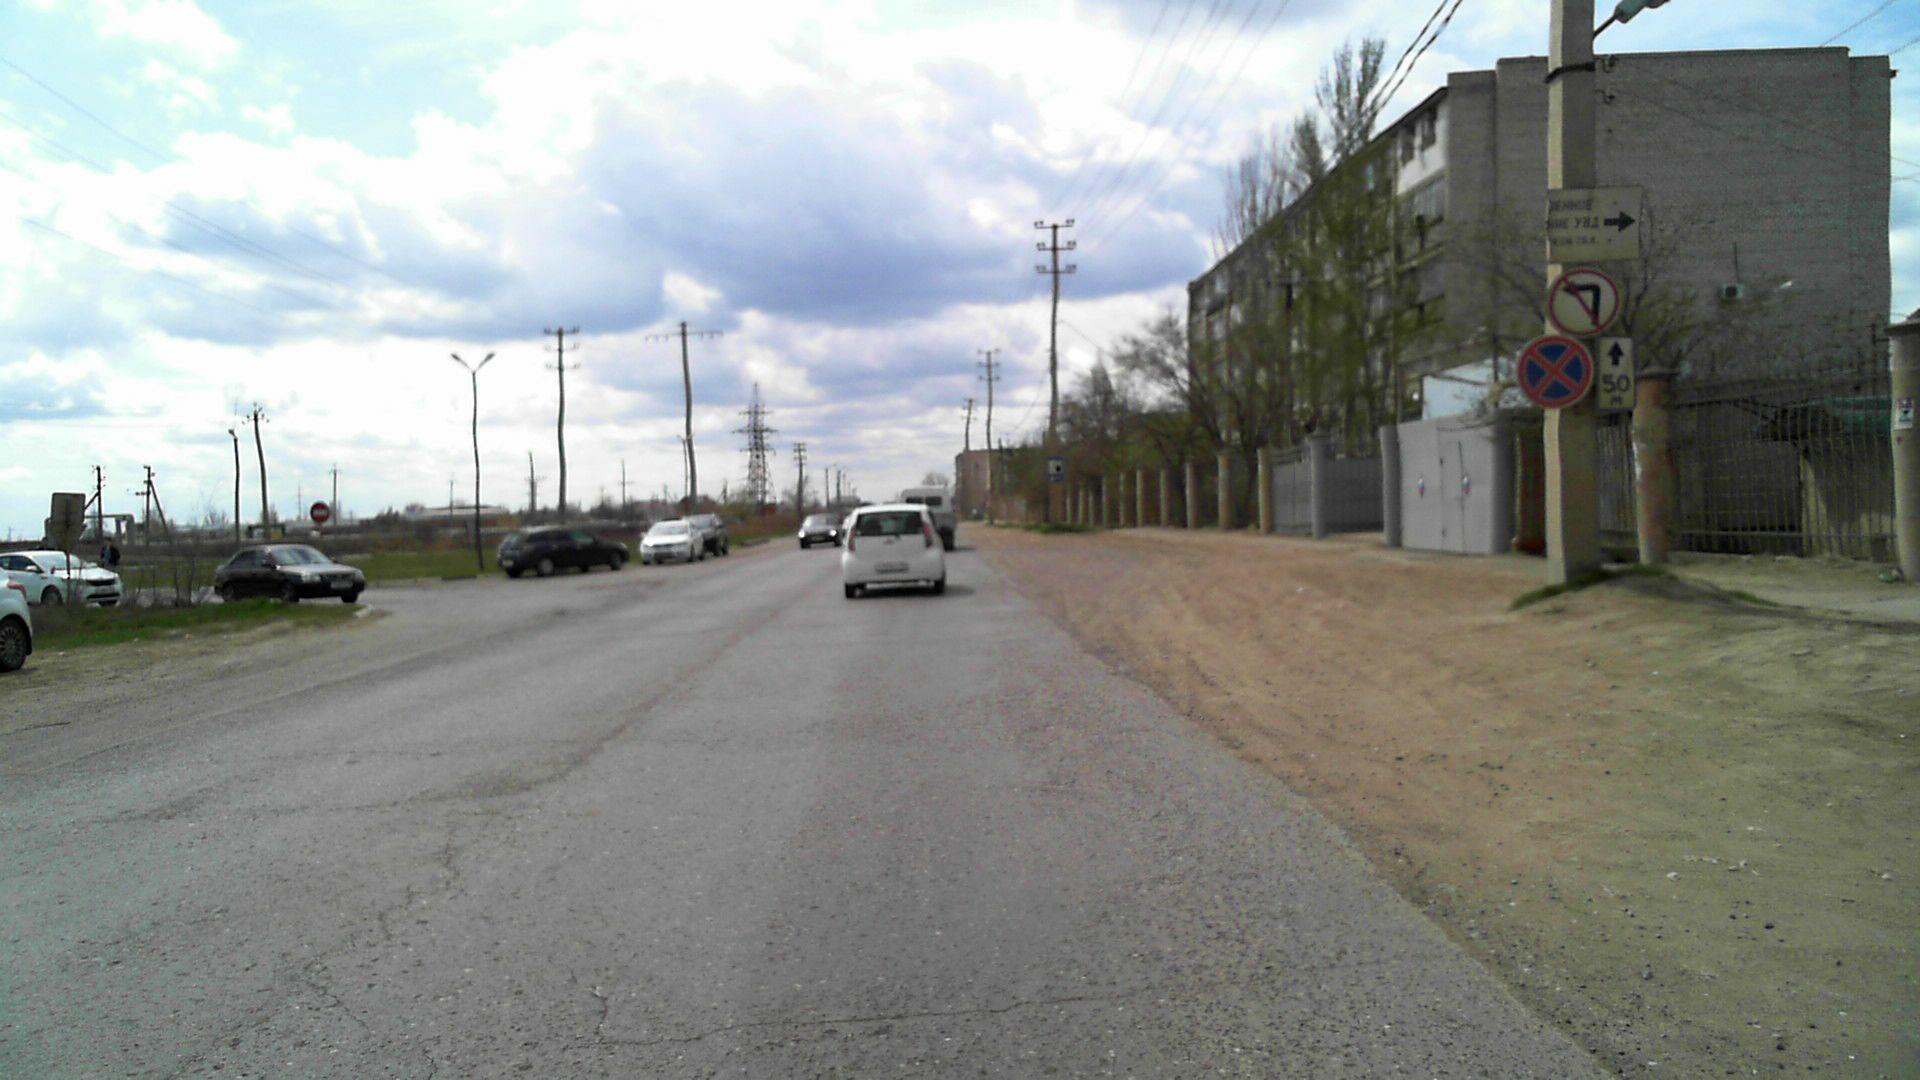3_1: (306, 500, 331, 524)
3_18_2: (1547, 267, 1620, 337)
7_3: (1048, 457, 1066, 482)
